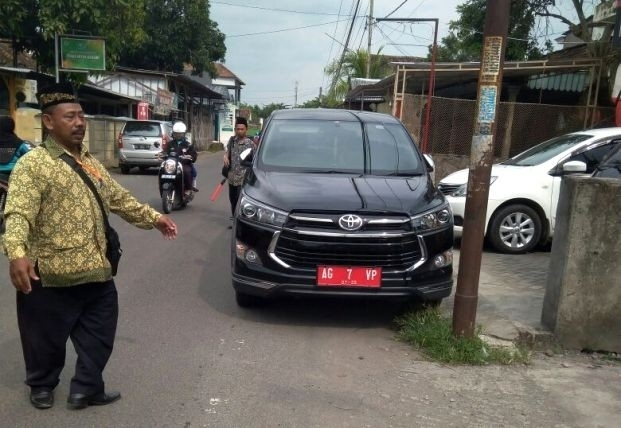plate: (318, 266, 379, 287)
